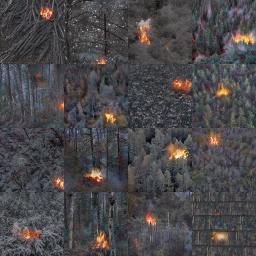Small fire: (135, 22, 153, 44), (167, 143, 189, 160), (86, 167, 105, 185), (232, 32, 254, 47), (38, 4, 55, 23), (172, 78, 193, 91), (20, 227, 41, 240), (95, 232, 110, 249), (215, 83, 230, 98), (103, 112, 118, 125), (213, 231, 229, 243), (54, 176, 65, 189), (146, 214, 157, 227), (210, 134, 221, 145), (57, 100, 66, 112), (96, 57, 106, 64)
